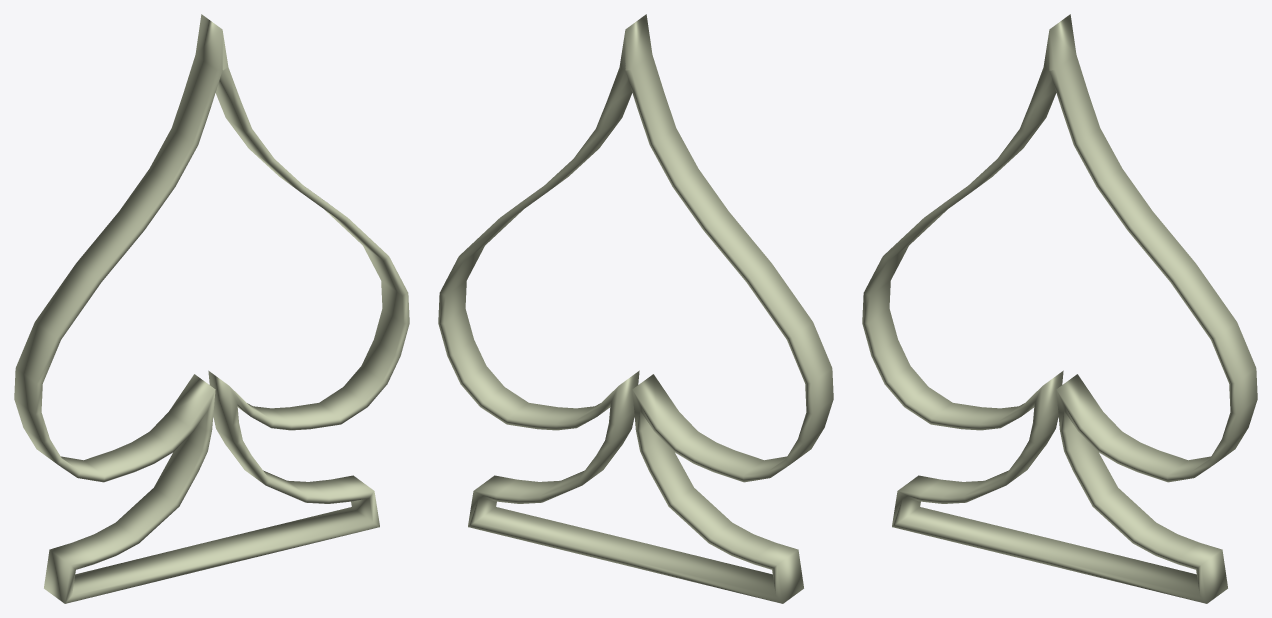
Rendered from spade.obj.
3 views of the same model, side by side, from view 1: azimuth 30°, elevation 25°; view 2: azimuth 150°, elevation 25°; view 3: azimuth 330°, elevation 25° (orthographic).
Parts seen in each view (by area): view 1: cone4; view 2: cone4; view 3: cone4.
Part boxes in pixels (x1,y1,x2,y2): cone4: [14, 14, 409, 603]; cone4: [438, 14, 833, 603]; cone4: [862, 14, 1257, 603].
Size of the model in its own units: 0.4339 by 0.5937 by 0.0425.
